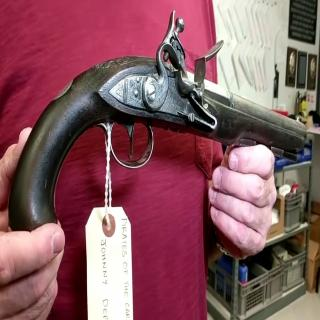gun: (7, 20, 306, 234)
